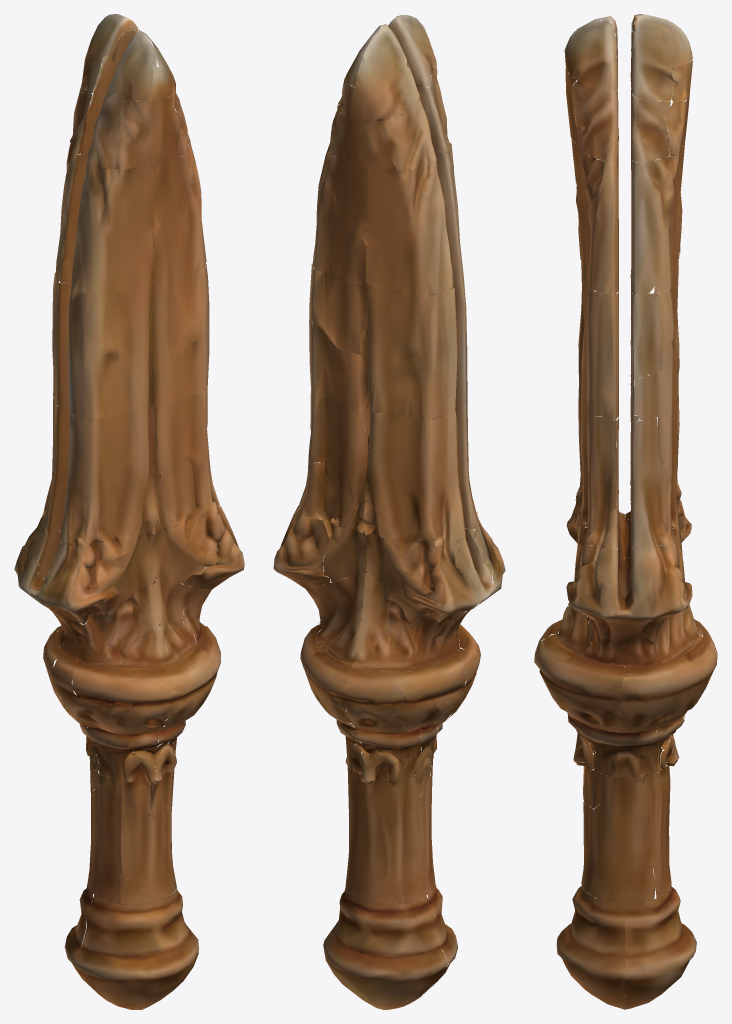
Rendered from dagger2.glb.
3 renders of one model, left to right at view 1: azimuth 30°, elevation 25°; view 2: azimuth 150°, elevation 25°; view 3: azimuth 270°, elevation 25°, orthographic.
Parts seen in each view (by area): view 1: dagger2; view 2: dagger2; view 3: dagger2.
Part boxes in pixels (<box>): dagger2: <box>14,14,244,1009</box>; dagger2: <box>273,15,505,1009</box>; dagger2: <box>534,14,717,1009</box>.
Bounding box in the file's own units: 0.2135 × 0.9998 × 0.1674.
1 material, 1 textured.
